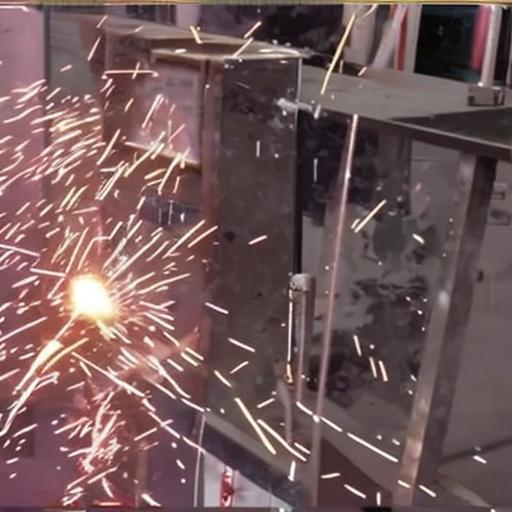fire: (1, 49, 286, 512)
